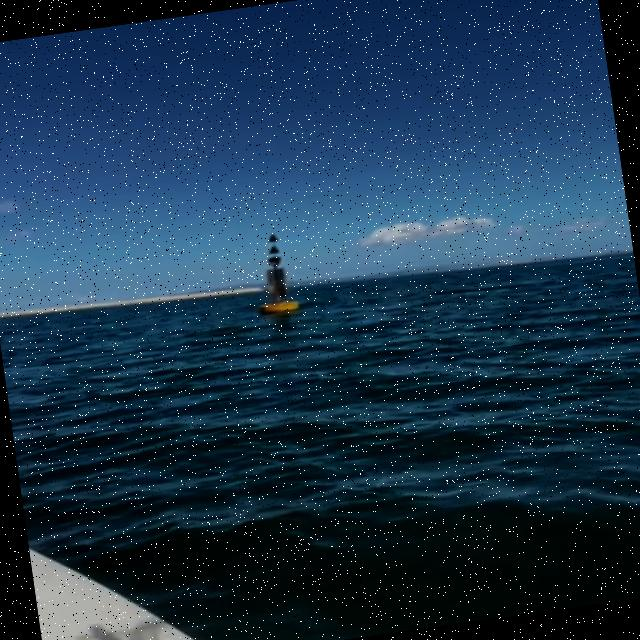marque: (246, 230, 305, 318)
